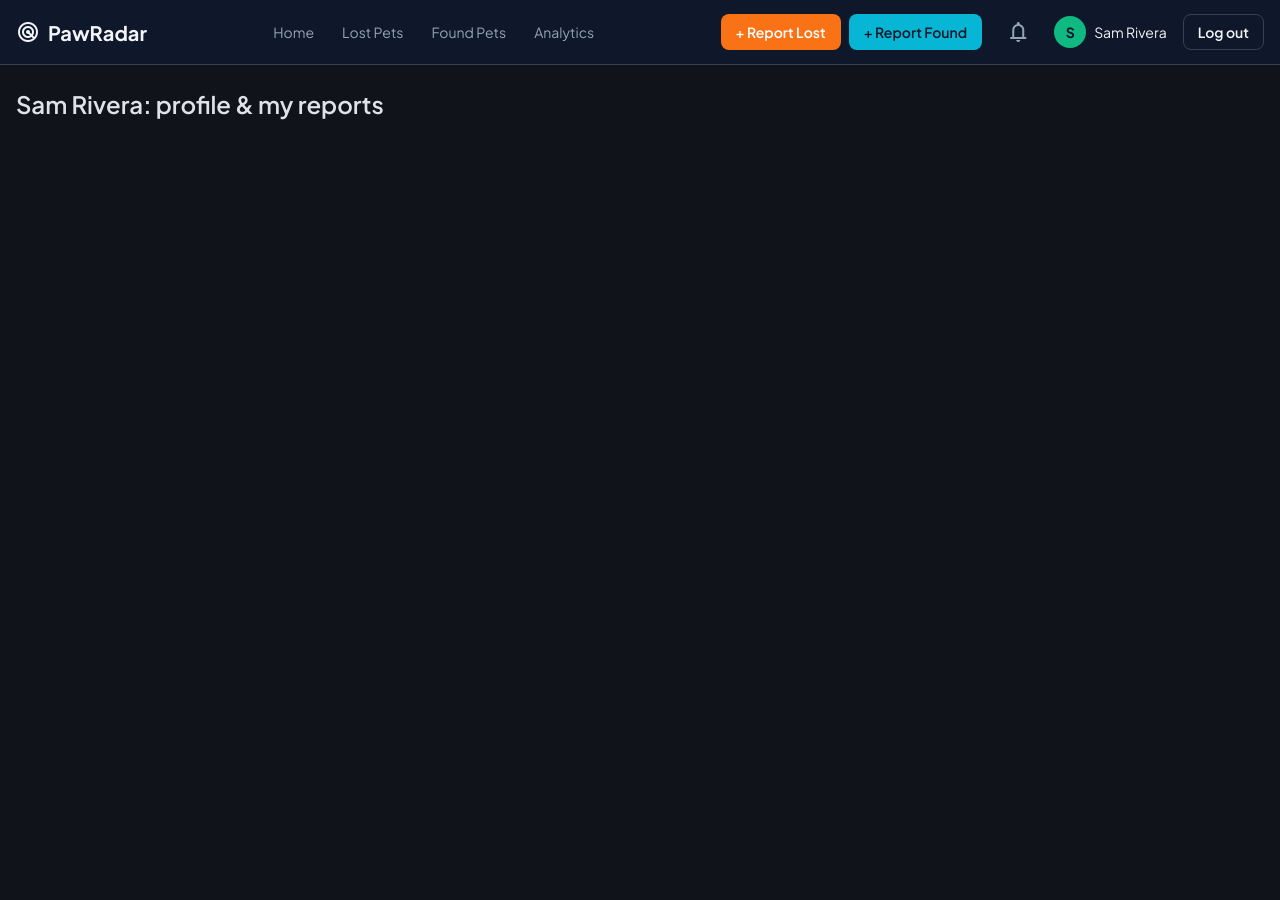
Scenario: LogoutButton › 5. does not return to the Profile page after logout and signing in again
Expected: the heading "Sam Rivera: profile & my reports" is shown, x1=16 y1=89 x2=384 y2=119
Click the button "Log out" at x=1223, y=32, box x1=1183 y1=14 x2=1264 y2=50
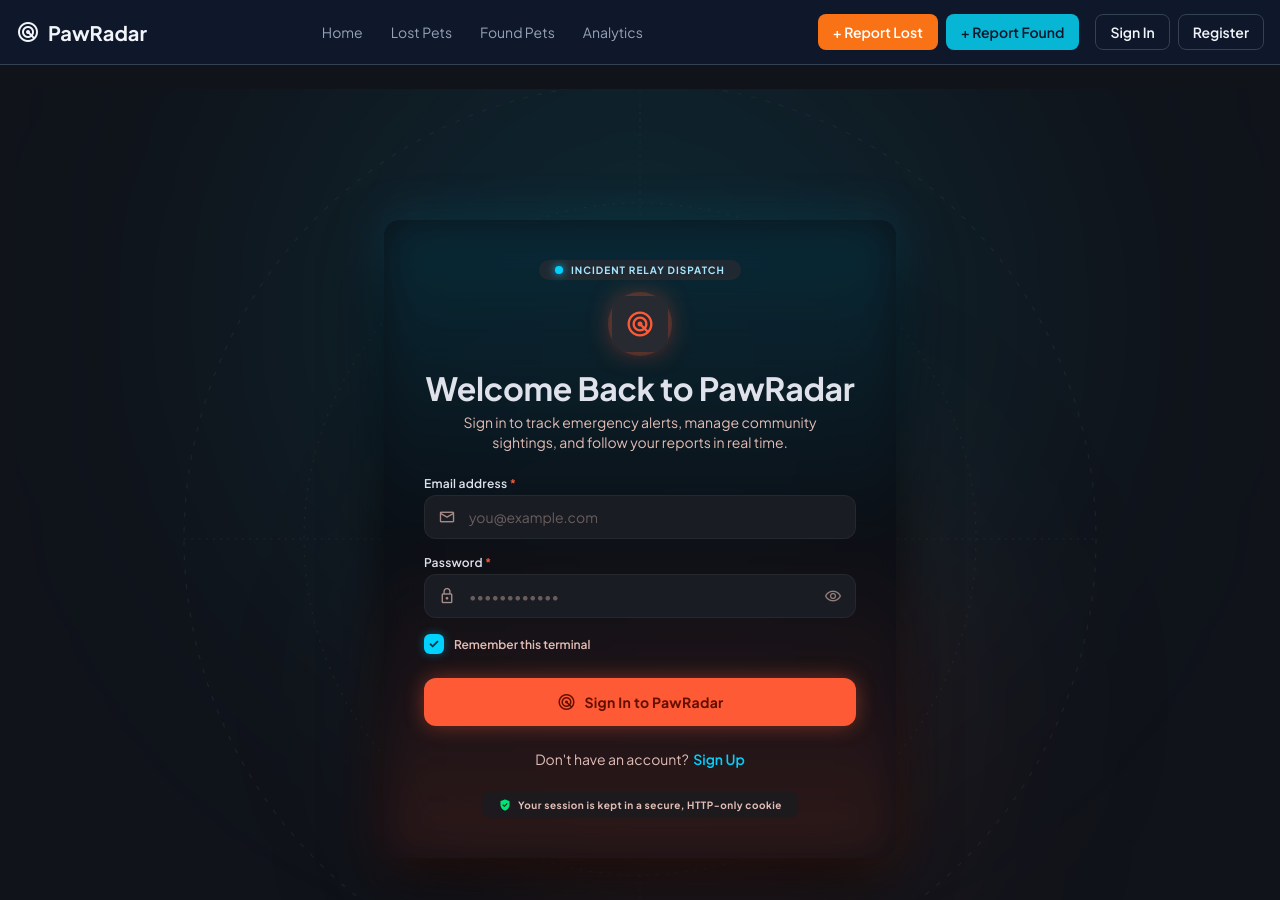
Expected: the heading "Welcome Back to PawRadar" is shown, x1=426 y1=368 x2=854 y2=408
Type "sam@example.com" into the field labelled "Email address *" at x=640, y=517, box x1=424 y1=495 x2=856 y2=539
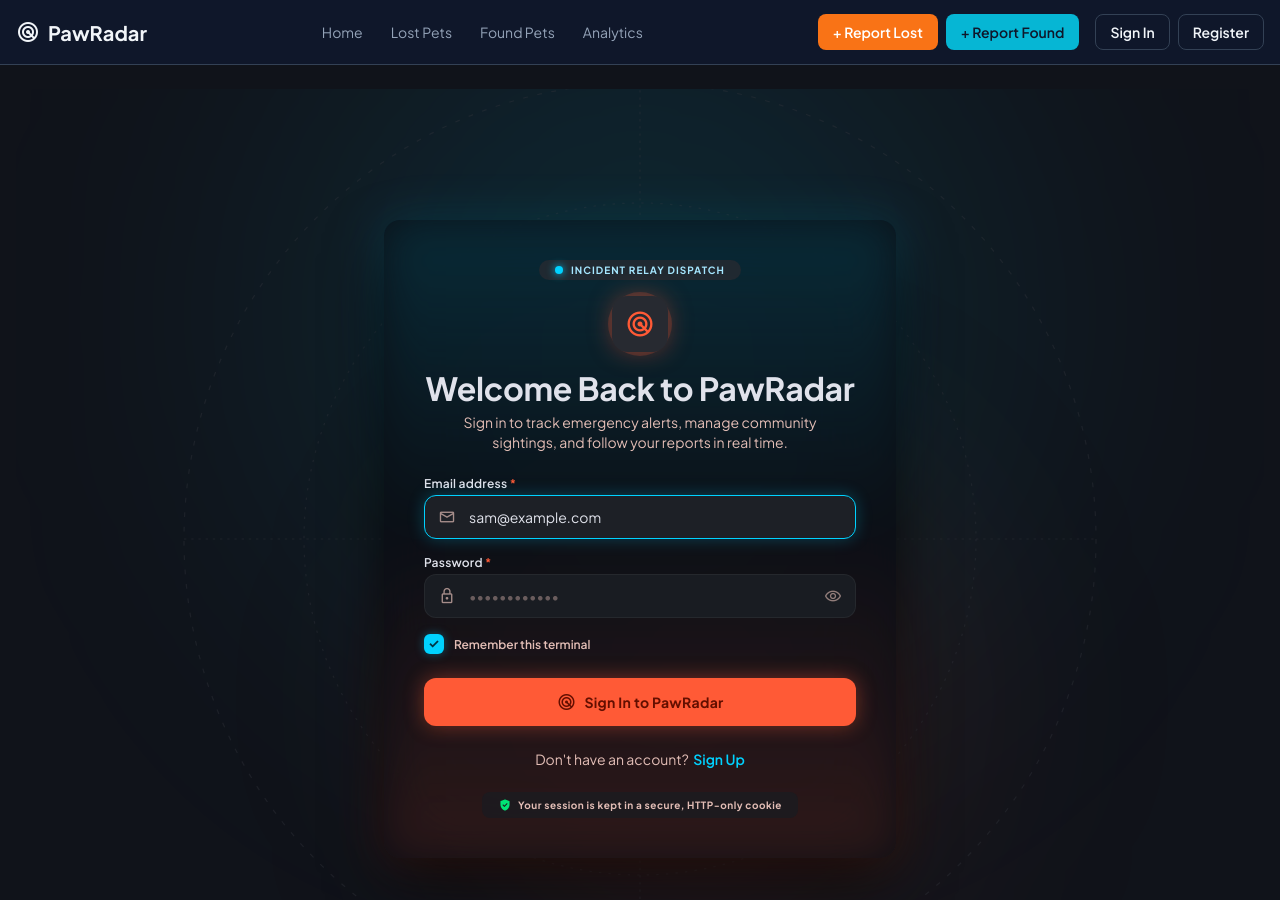
Type "correct-horse-1" into the password field labelled "Password *" at x=640, y=596, box x1=424 y1=574 x2=856 y2=618
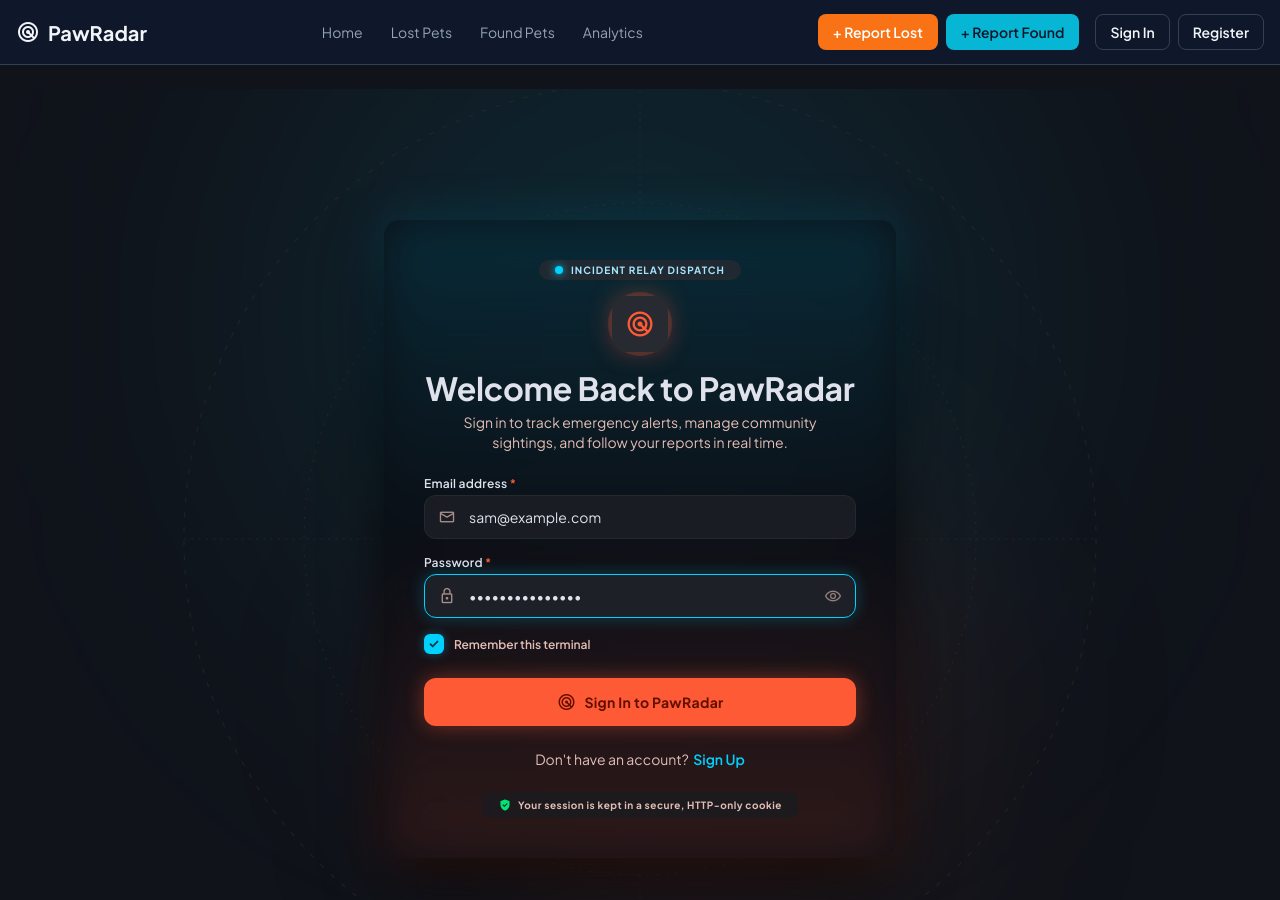
Click the button "Sign In to PawRadar" at x=640, y=702, box x1=424 y1=678 x2=856 y2=726
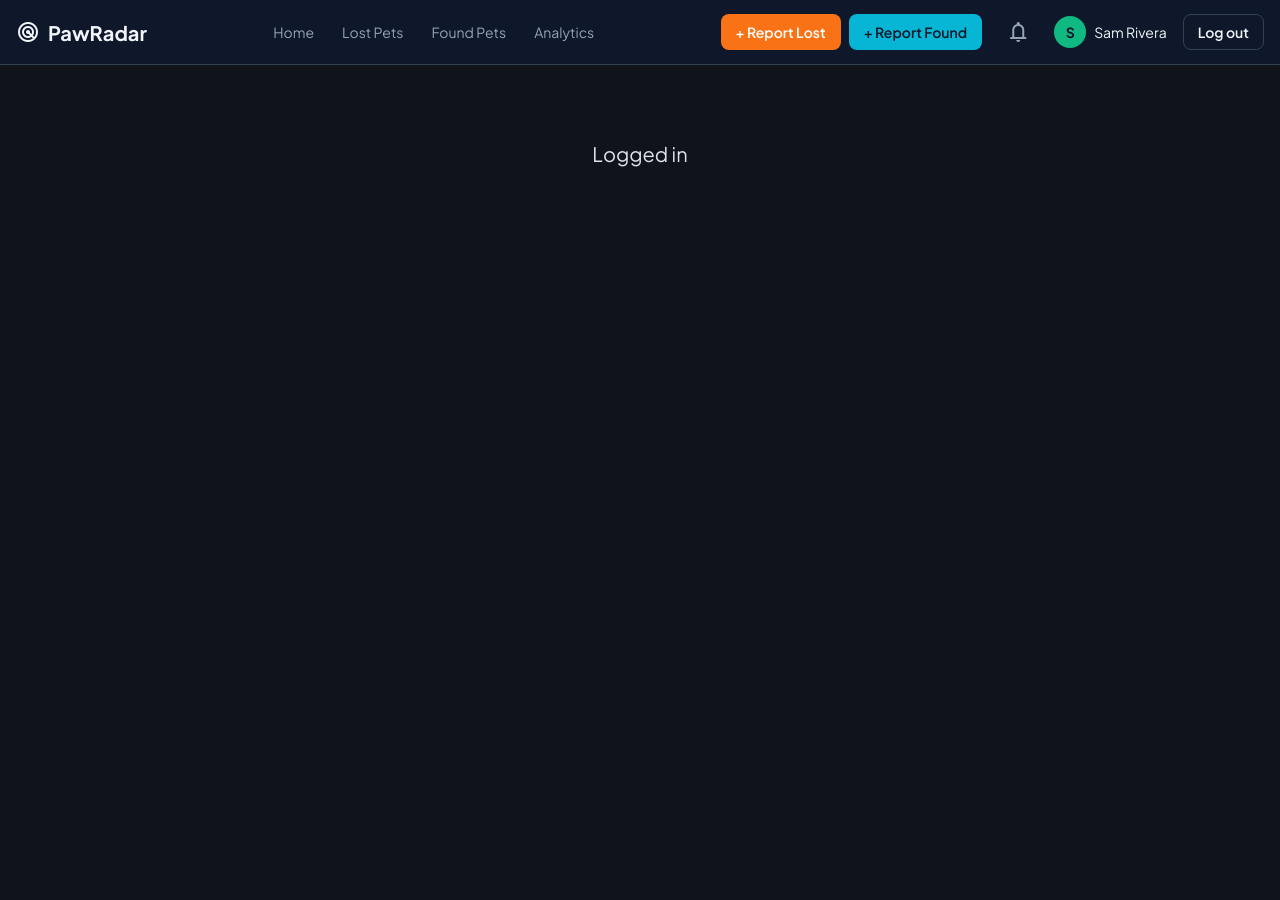
Expected: the heading "profile & my reports" is not shown
Expected: the text "Logged in" is shown, x1=592 y1=141 x2=688 y2=166
